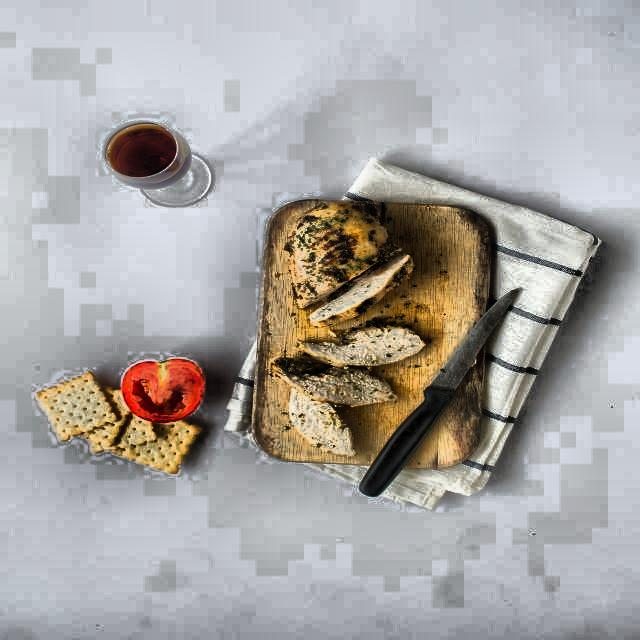knife: (359, 285, 532, 501)
